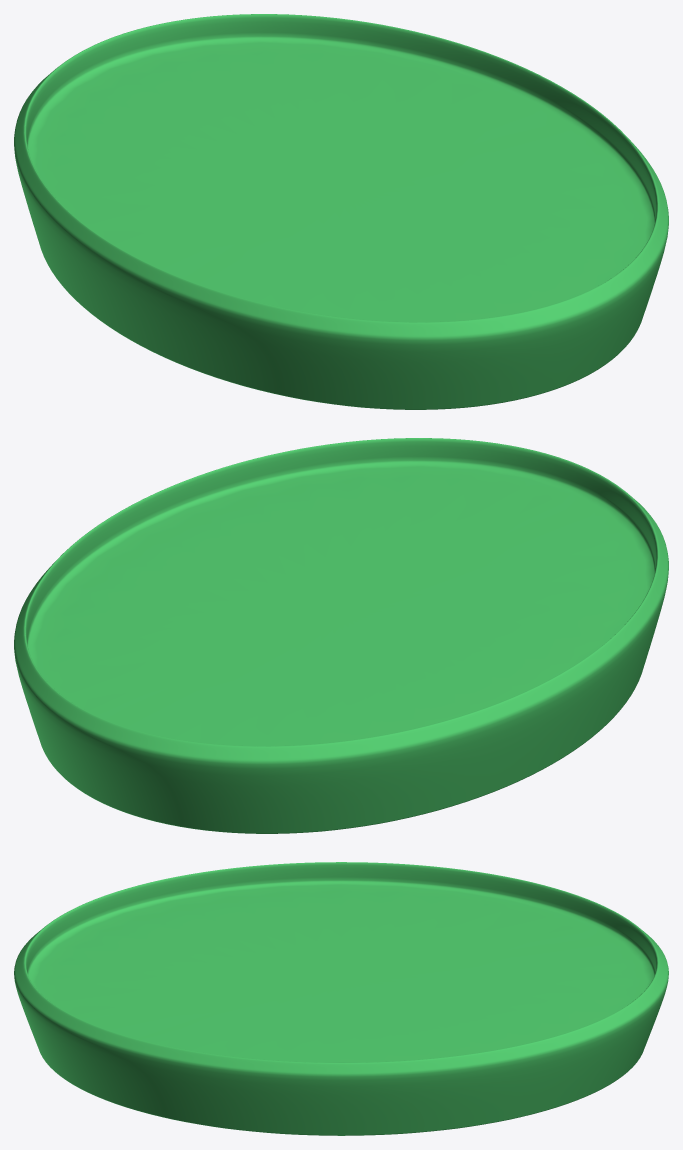
3 views of the same model, one above another, from view 1: azimuth 30°, elevation 25°; view 2: azimuth 150°, elevation 25°; view 3: azimuth 270°, elevation 25° (orthographic). The views are drawn at different scales.
Parts seen in each view (by area): view 1: Circle; view 2: Circle; view 3: Circle.
Boxes of the visible parts, x1,y1,x2,y2 form: Circle: [14, 14, 668, 409]; Circle: [14, 438, 668, 833]; Circle: [14, 862, 668, 1135].
Size of the model in its own units: 7396 by 1311 by 9861.
